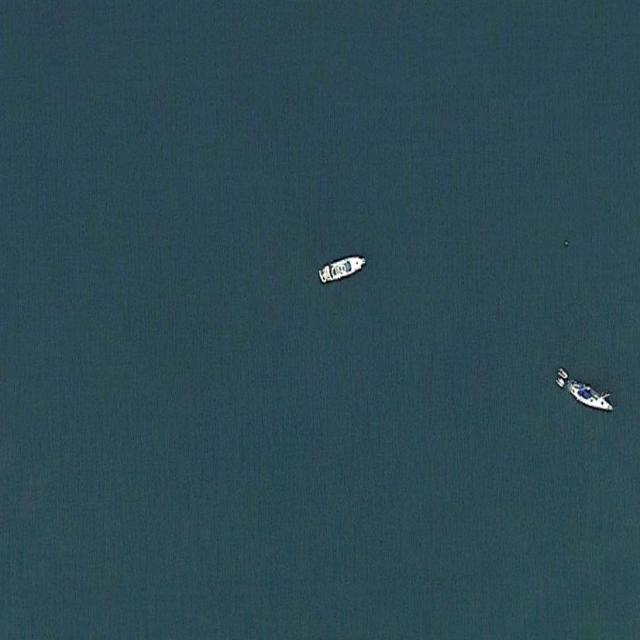ship: (553, 368, 613, 412), (318, 254, 368, 283)
